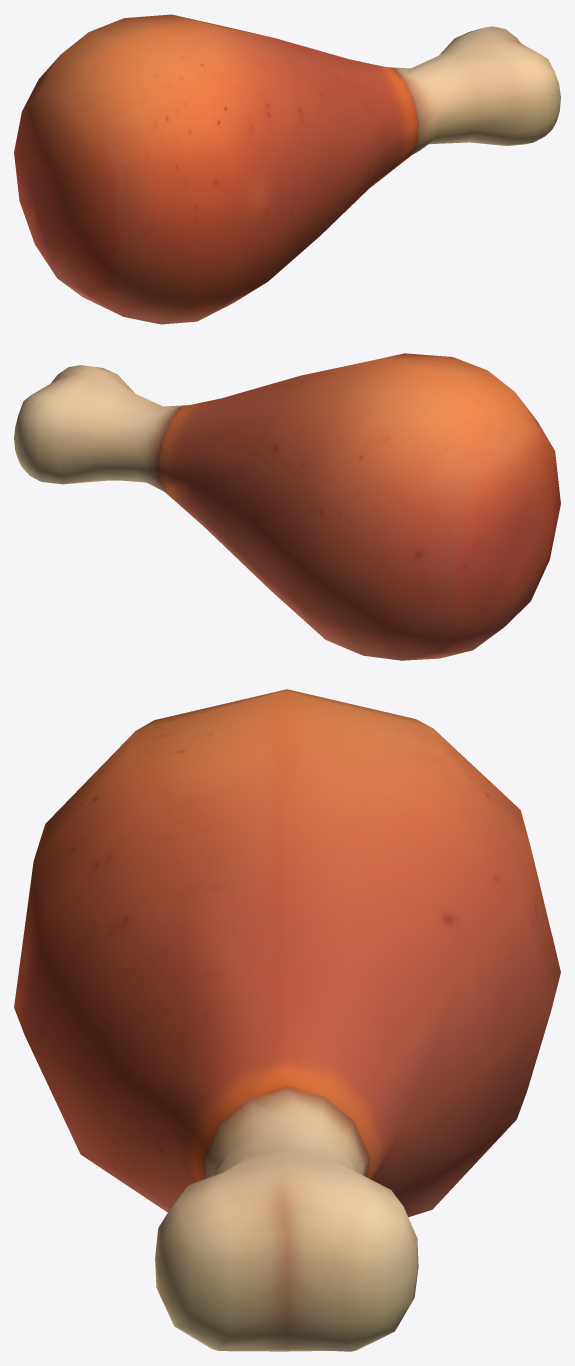
File: image_png_1121125509_texture.fbx
The picture shows the model from 3 angles, top to bottom: view 1: azimuth 30°, elevation 25°; view 2: azimuth 150°, elevation 25°; view 3: azimuth 270°, elevation 25°; orthographic projection. The views are drawn at different scales.
Parts seen in each view (by area): view 1: input; view 2: input; view 3: input.
Part boxes in pixels (left/top/right/bottom): input: left=14, top=14, right=560, bottom=324; input: left=14, top=353, right=560, bottom=660; input: left=14, top=689, right=560, bottom=1351.
Bounding box in the file's own units: 191 × 103 × 103.
Materials: 1 (1 with a texture image).
